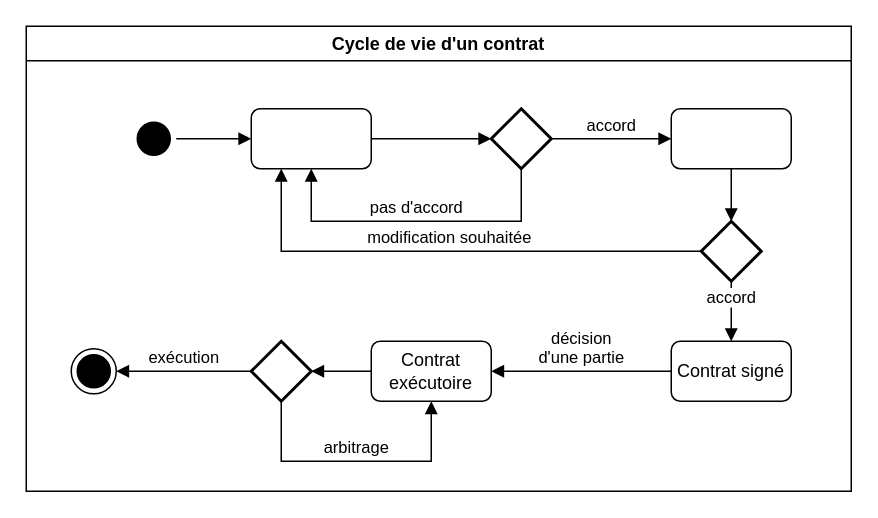
Image size: 878x518. Some labels were removed from this diagram. Each missing label, with the centre of its shape:
Projet: the point at 310,138
Préaccord: the point at 730,138
